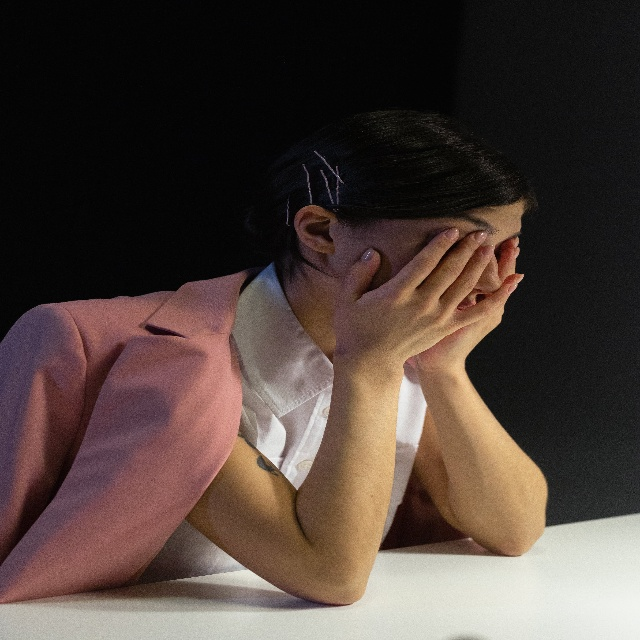Sin_guantes: (339, 202, 521, 359), (413, 203, 523, 372)
